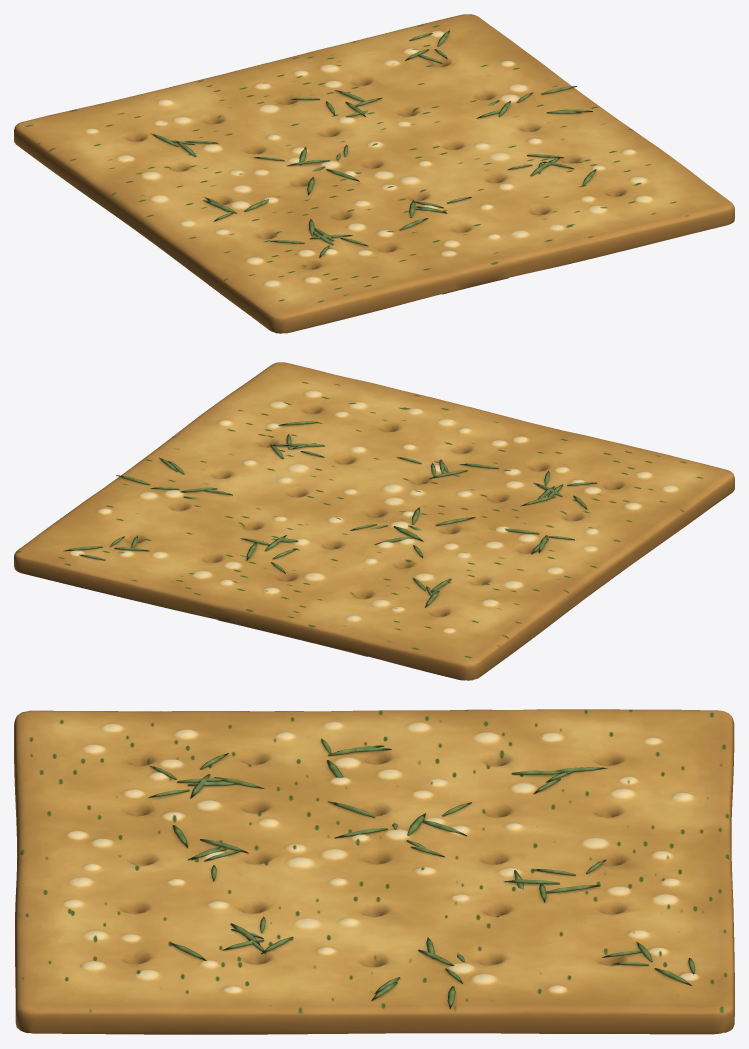
The model's file is cracker--rosemary-dried.glb.
3 views of the same model, one above another, from view 1: azimuth 30°, elevation 25°; view 2: azimuth 150°, elevation 25°; view 3: azimuth 270°, elevation 25° (orthographic). The views are drawn at different scales.
Visible parts, largest first — view 1: cracker_rosemary-dried; view 2: cracker_rosemary-dried; view 3: cracker_rosemary-dried.
Boxes of the visible parts, bbox=[...] form: cracker_rosemary-dried: bbox=[14, 14, 734, 333]; cracker_rosemary-dried: bbox=[14, 362, 734, 680]; cracker_rosemary-dried: bbox=[14, 709, 734, 1034].
Bounding box in the file's own units: 1.01 × 0.0455 × 1.
Materials: 1 (1 with a texture image).
